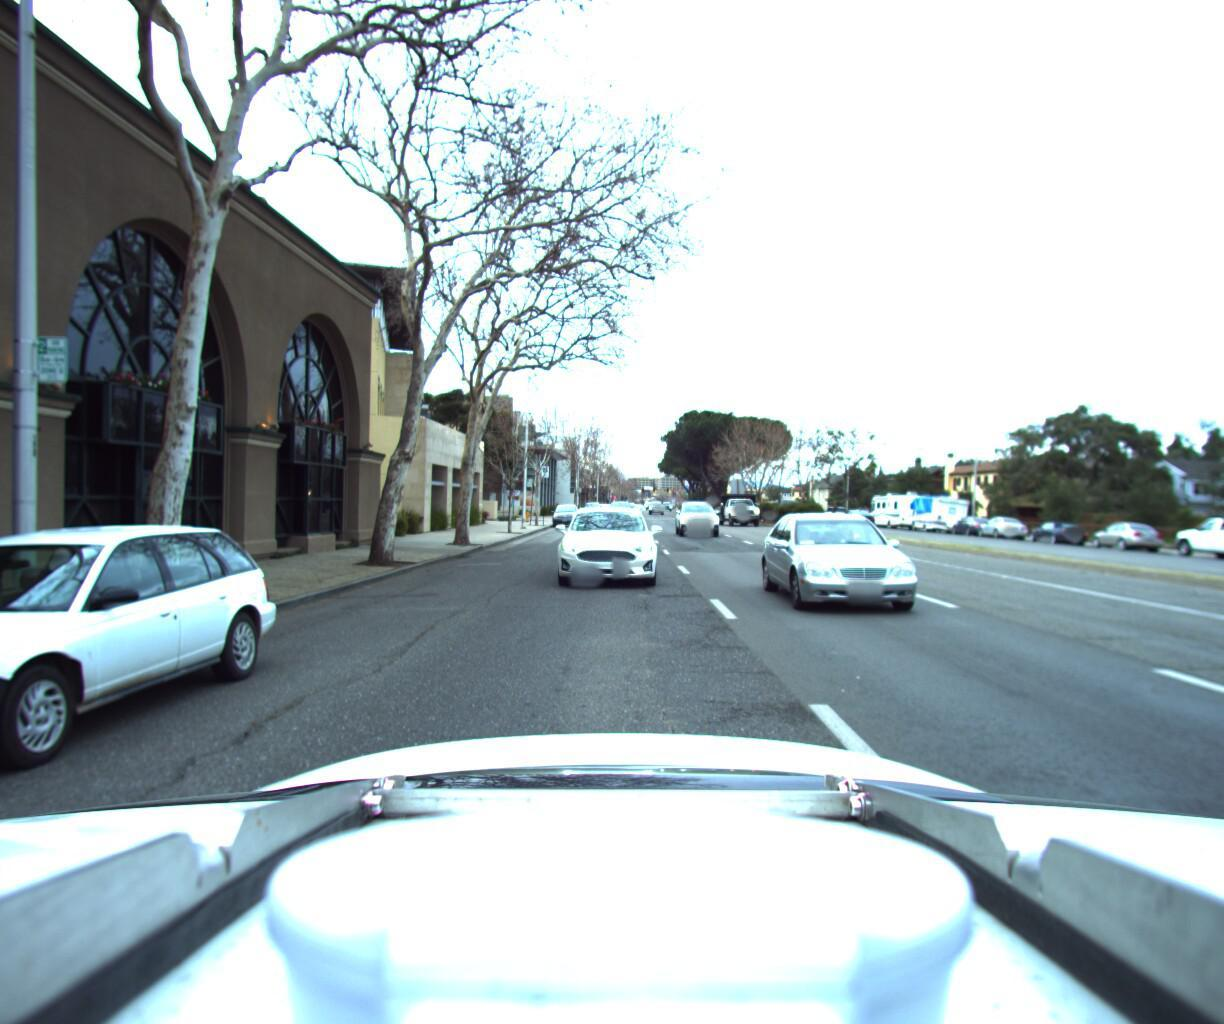car: (756, 504, 963, 630), (545, 495, 659, 595), (1168, 503, 1224, 557), (1085, 513, 1169, 546), (710, 477, 770, 519), (673, 493, 726, 534), (1024, 511, 1094, 541), (976, 507, 1030, 533), (827, 501, 875, 528), (948, 508, 998, 531), (551, 494, 582, 519), (607, 494, 631, 514)
other_vehicle: (905, 486, 972, 530), (866, 482, 932, 526)
